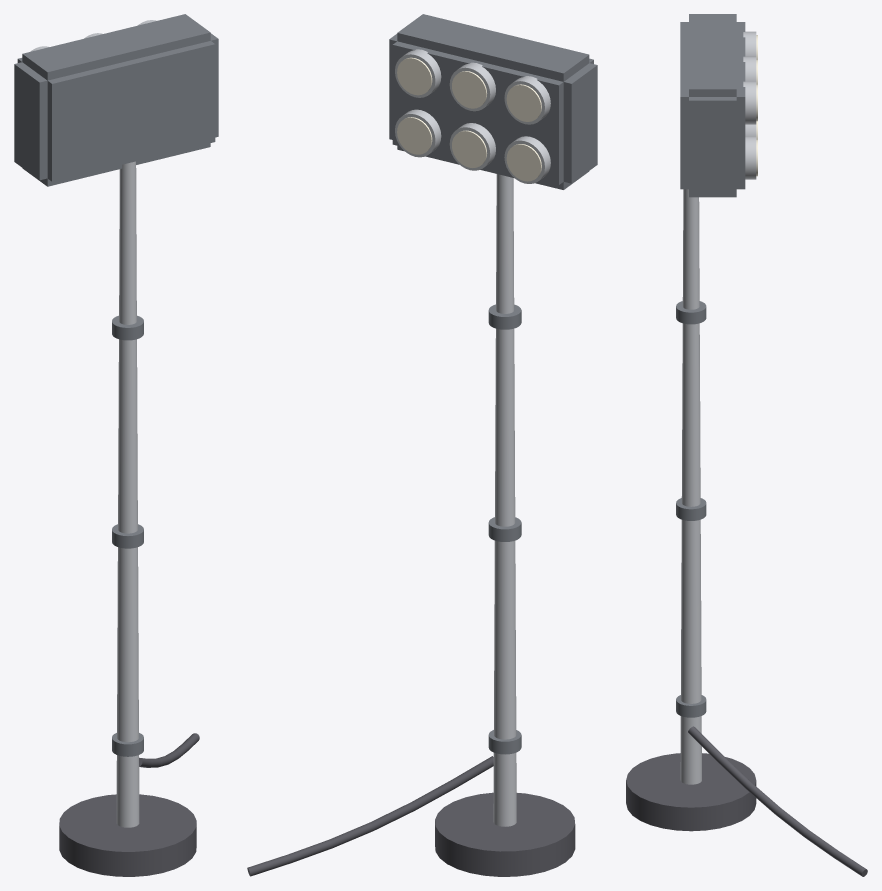
The model's file is base_floodlight.fbx.
3 views of the same model, side by side, from view 1: azimuth 30°, elevation 25°; view 2: azimuth 150°, elevation 25°; view 3: azimuth 270°, elevation 25° (orthographic). The views are drawn at different scales.
Visible parts, largest first — view 1: base_floodlight; view 2: base_floodlight; view 3: base_floodlight.
Boxes of the visible parts, x1,y1,x2,y2 form: base_floodlight: [14, 14, 218, 876]; base_floodlight: [247, 14, 597, 876]; base_floodlight: [626, 14, 867, 876].
Bounding box in the file's own units: 1.26 × 3.83 × 1.11.
